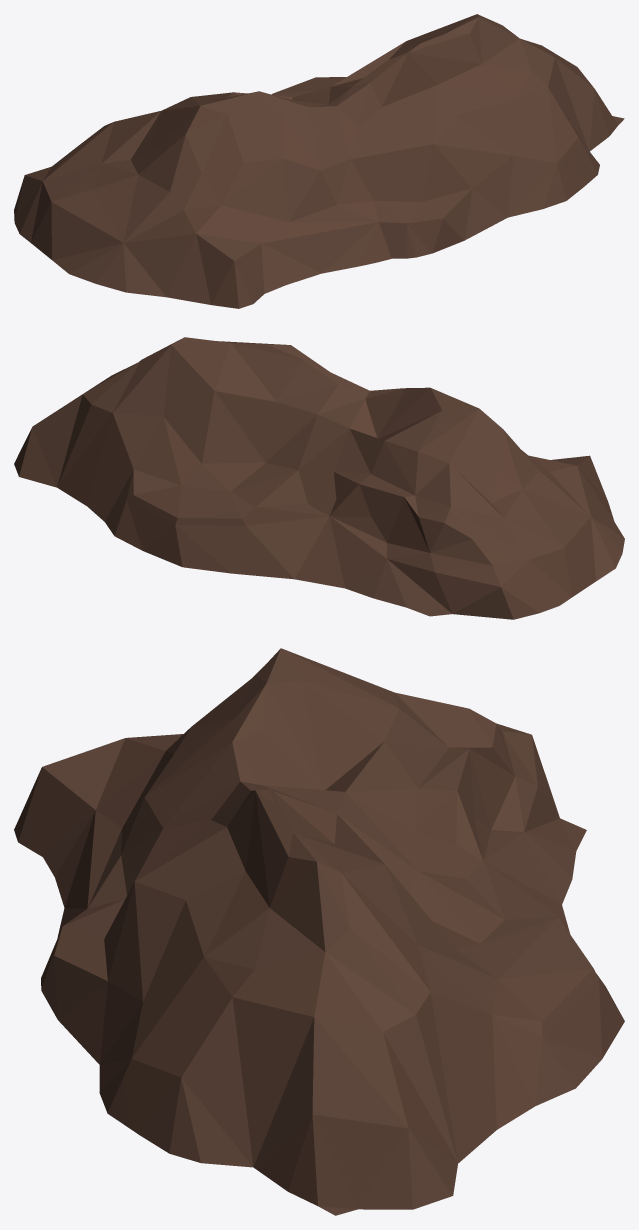
Rendered from Mountain_02.glb.
3 renders of one model, top to bottom at view 1: azimuth 30°, elevation 25°; view 2: azimuth 150°, elevation 25°; view 3: azimuth 270°, elevation 25°, orthographic. The views are drawn at different scales.
Parts seen in each view (by area): view 1: Mountain_02; view 2: Mountain_02; view 3: Mountain_02.
Boxes of the visible parts, x1,y1,x2,y2 form: Mountain_02: (14,14,624,308); Mountain_02: (14,337,624,619); Mountain_02: (14,648,624,1215).
Size of what is drawn, in the model's own units: 14.96 by 3.55 by 8.42.
1 material, 1 textured.
